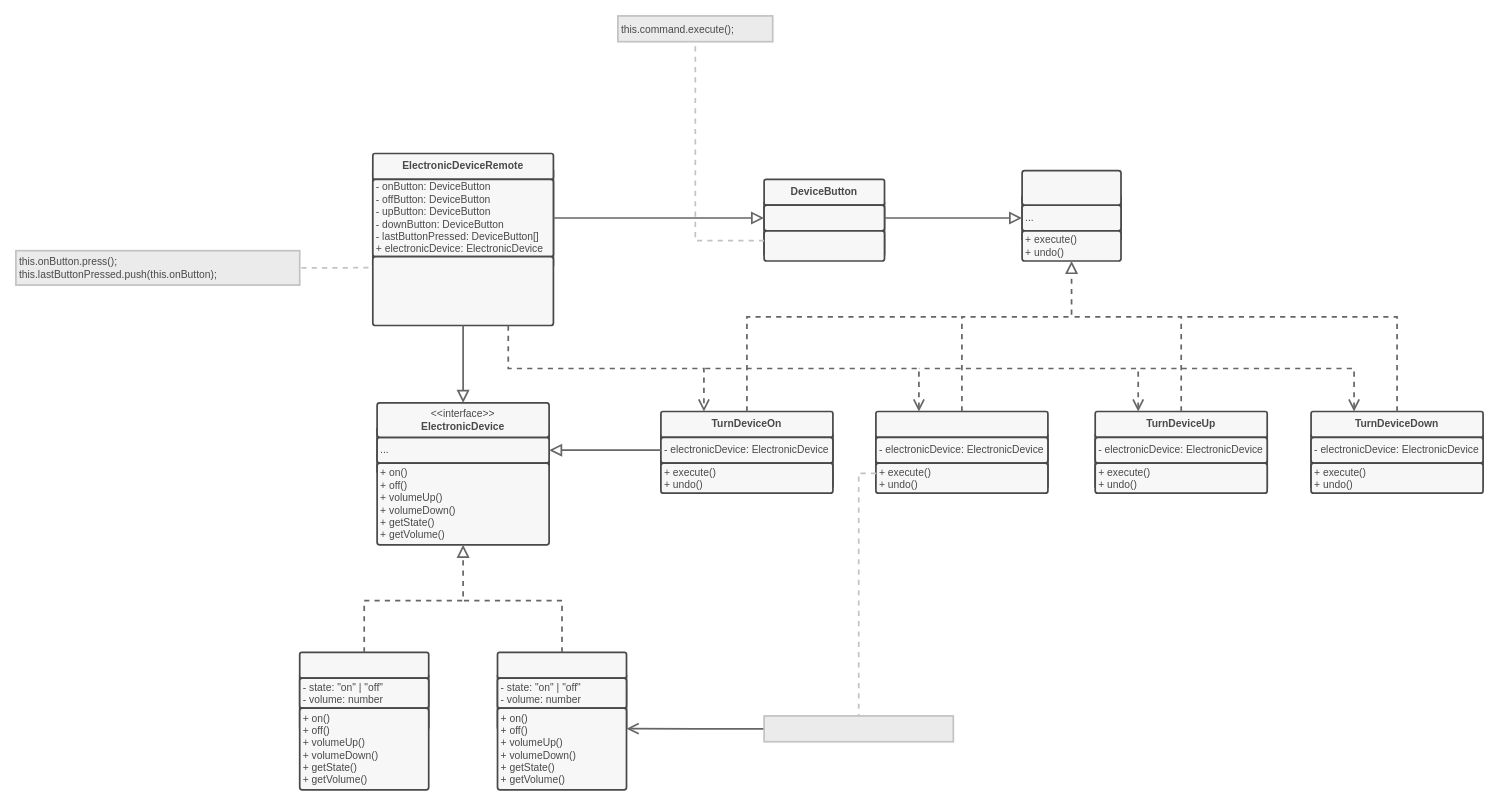
The diagram is 1498 pixels wide and 805 high, and some of its shapes have lost their labels. Each missing label, with the centre of its shape:
"+ press() + pressUndo()" goes at pixel 824 245.
"+ pressOn() + pressOff() + pressUp() + pressDown() + pressUndo()" goes at pixel 463 290.
"- command: Command" goes at pixel 824 217.
"<<interface>> Command" goes at pixel 1071 187.
"Radio" goes at pixel 561 665.
"Television" goes at pixel 363 665.
"this.electronicDevice.off();" goes at pixel 858 728.
"TurnDeviceOff" goes at pixel 961 424.
